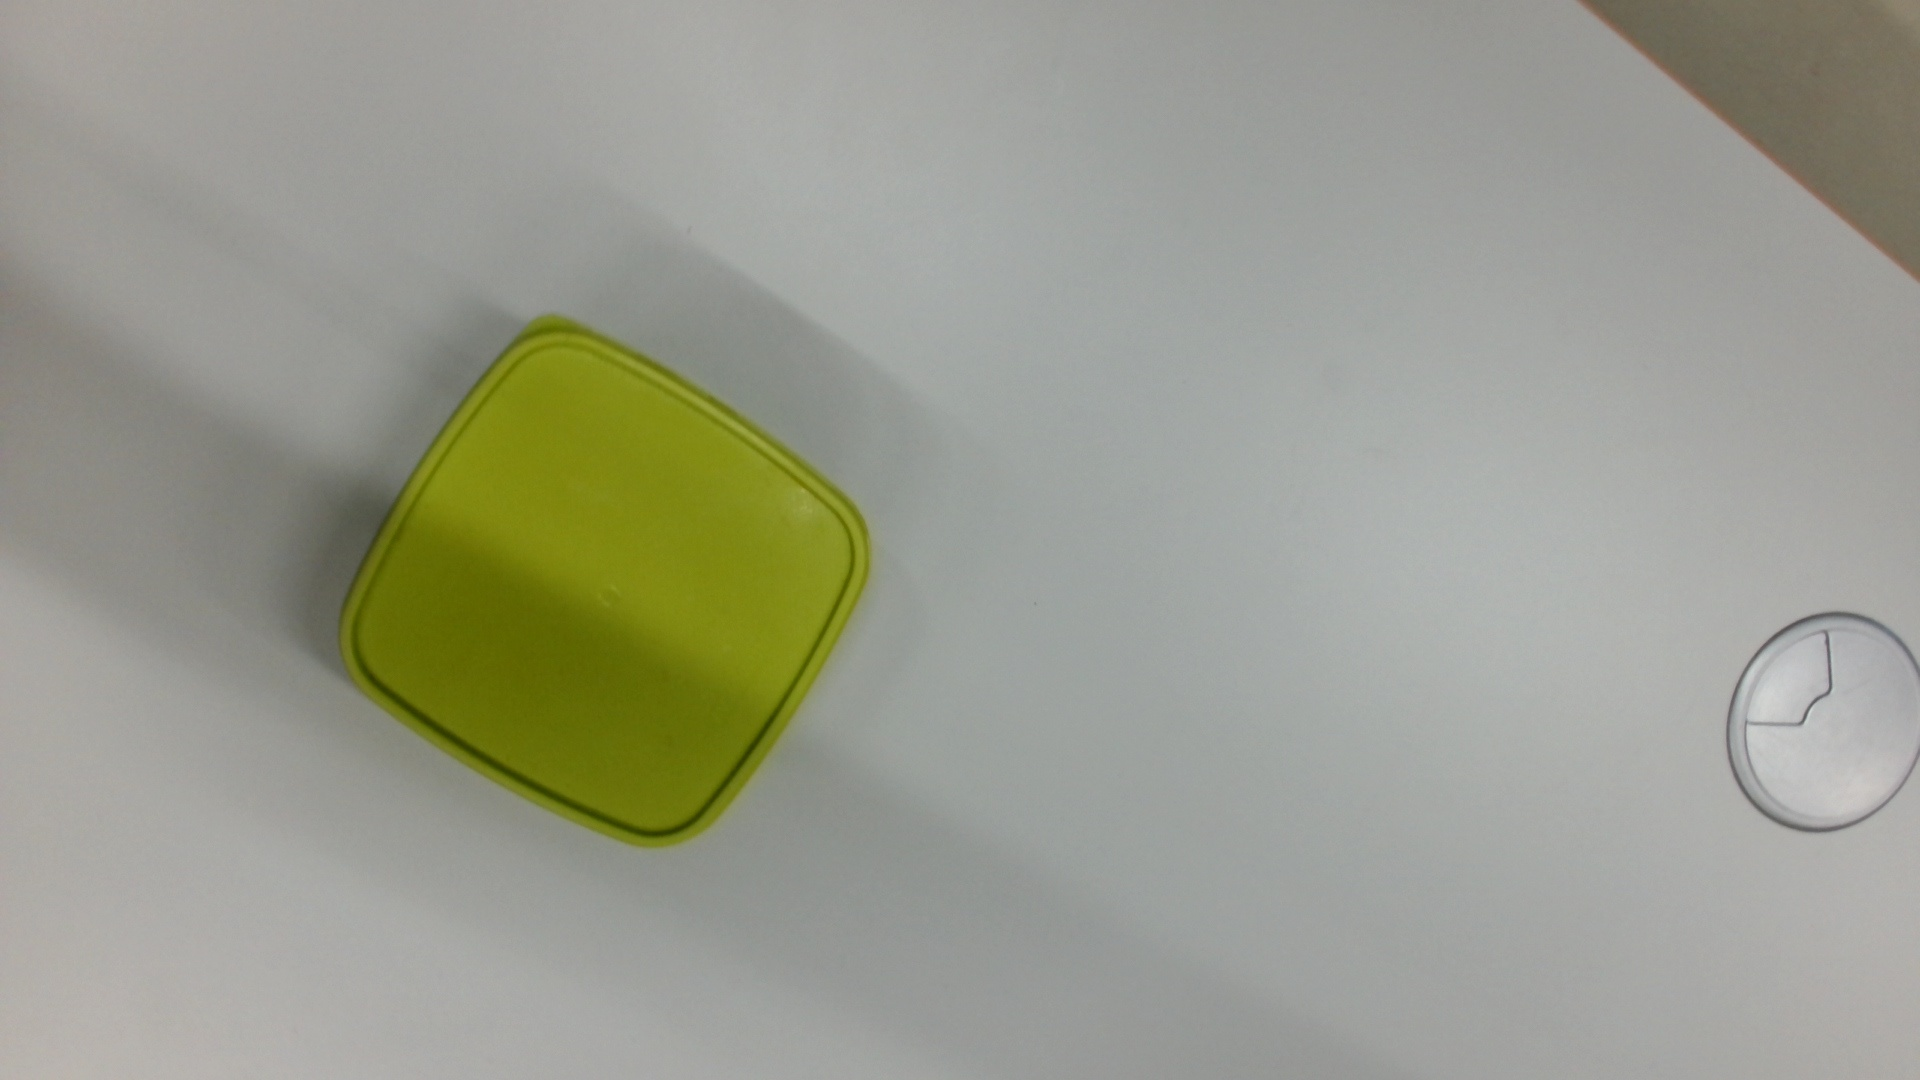Box: (328, 309, 882, 862)
